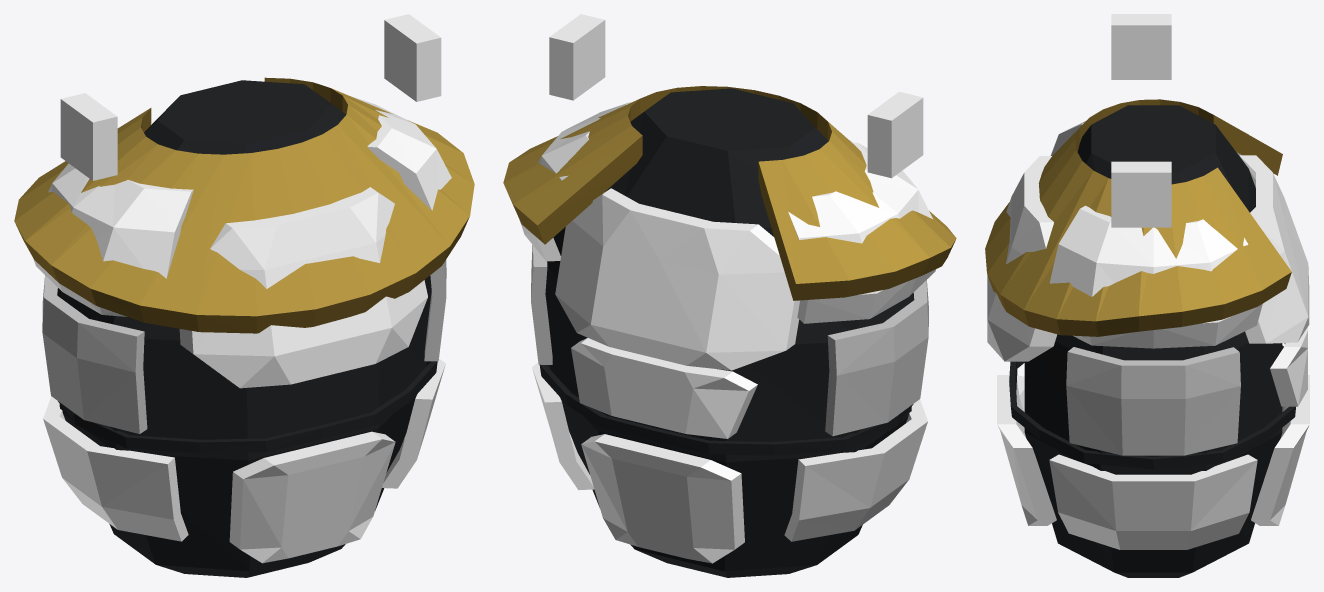
The model's file is person_fat_armor_marine_prestige.obj.
3 renders of one model, left to right at view 1: azimuth 30°, elevation 25°; view 2: azimuth 150°, elevation 25°; view 3: azimuth 270°, elevation 25°, orthographic. The views are drawn at different scales.
Visible parts, largest first — view 1: person_fat_armor_marine_prestige, person_fat_armor_marine_prestige_addons; view 2: person_fat_armor_marine_prestige, person_fat_armor_marine_prestige_addons; view 3: person_fat_armor_marine_prestige, person_fat_armor_marine_prestige_addons.
Part boxes in pixels (<box>): person_fat_armor_marine_prestige: <box>33,80,451,577</box>; person_fat_armor_marine_prestige_addons: <box>14,14,474,333</box>; person_fat_armor_marine_prestige: <box>519,88,936,577</box>; person_fat_armor_marine_prestige_addons: <box>503,14,956,300</box>; person_fat_armor_marine_prestige: <box>987,105,1309,577</box>; person_fat_armor_marine_prestige_addons: <box>985,14,1291,336</box>.
Size of the model in its own units: 0.7562 by 0.825 by 0.5385.
